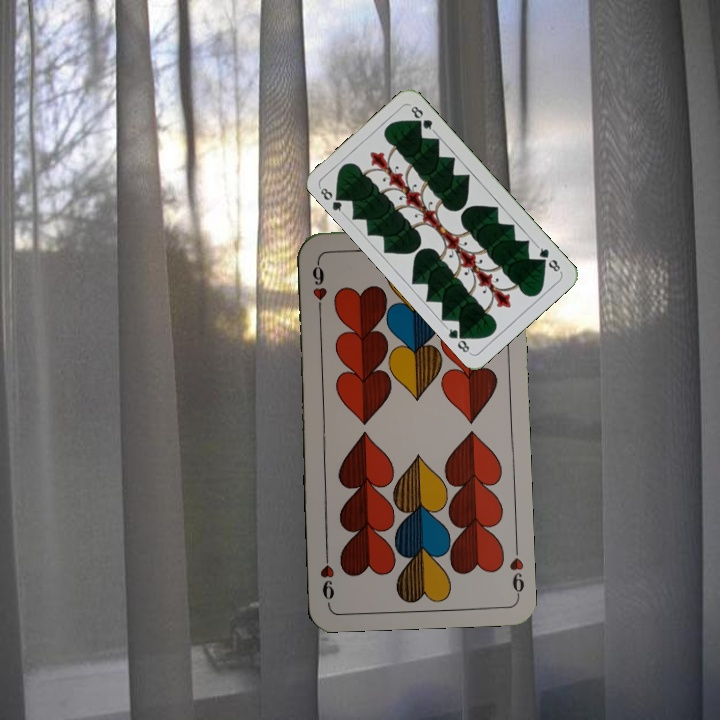G8: (315, 183, 347, 217), (533, 242, 564, 275)
H9: (308, 257, 330, 316), (505, 540, 527, 599)
